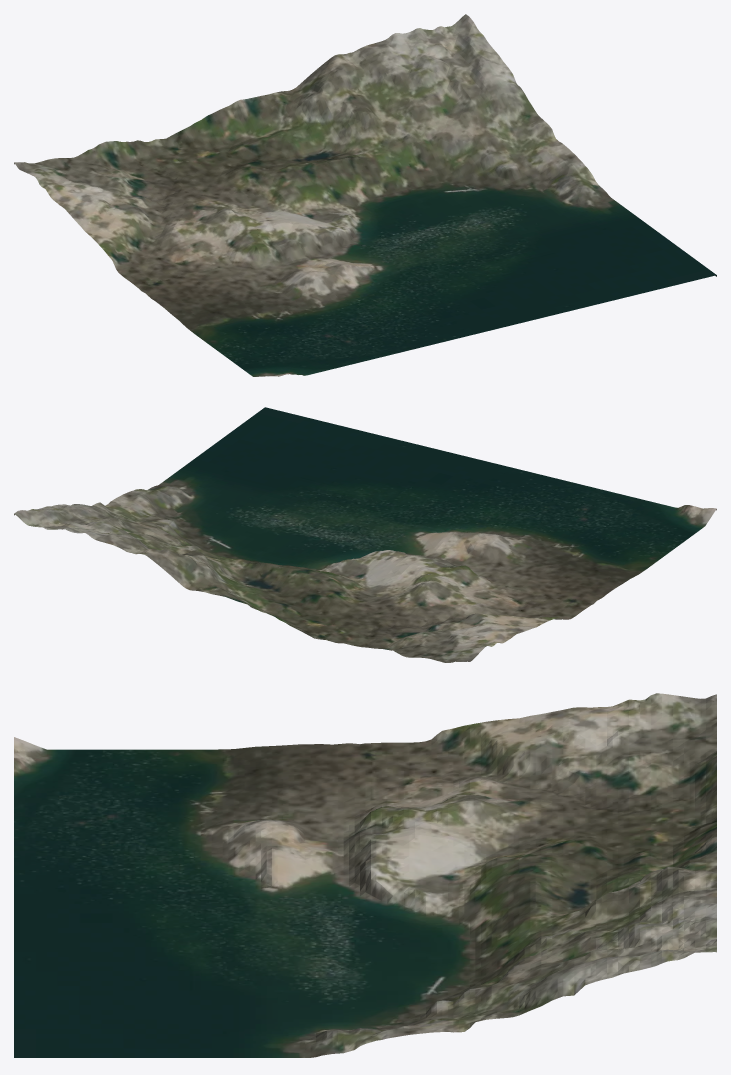
3 views of the same model, one above another, from view 1: azimuth 30°, elevation 25°; view 2: azimuth 150°, elevation 25°; view 3: azimuth 270°, elevation 25° (orthographic). The views are drawn at different scales.
Bounding box in the file's own units: 250 × 42.01 × 241.
1 material, 1 textured.
